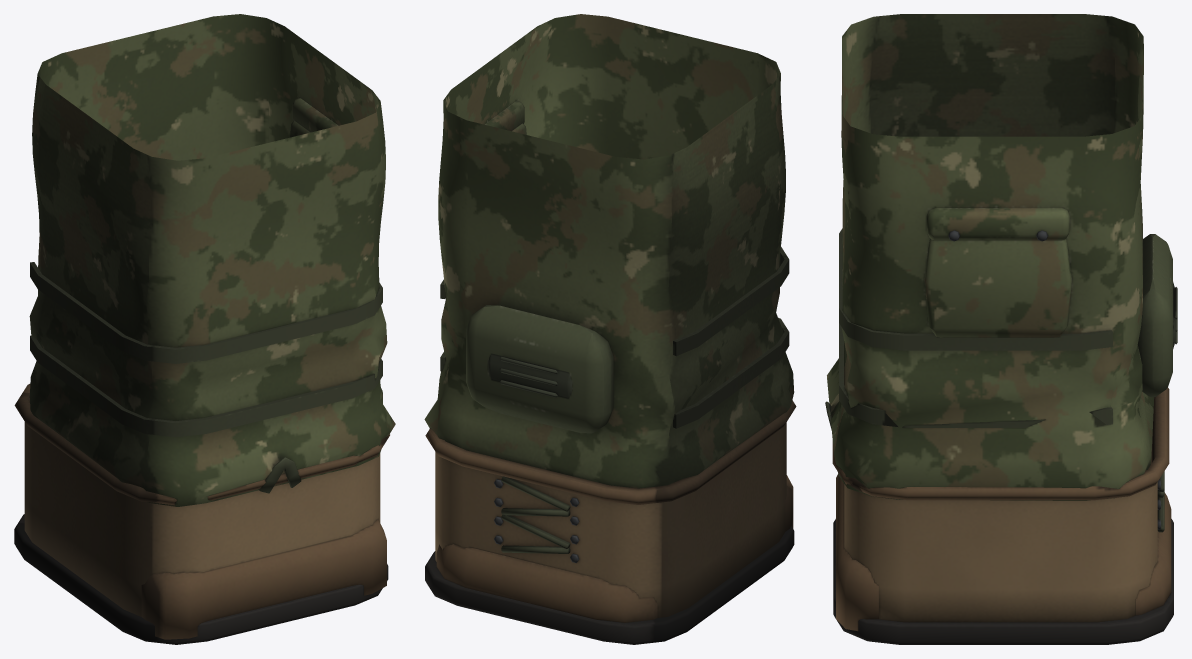
The model's file is Ashford_Leg.fbx.
The picture shows the model from 3 angles, left to right: view 1: azimuth 30°, elevation 25°; view 2: azimuth 150°, elevation 25°; view 3: azimuth 270°, elevation 25°; orthographic projection. The views are drawn at different scales.
Visible parts, largest first — view 1: Ashford_Leg_cloth, Ashford_Leg_boot, Ashford_Leg_strap, Ashford_Leg_sole; view 2: Ashford_Leg_cloth, Ashford_Leg_boot, Ashford_Leg_knee, Ashford_Leg_sole, Ashford_Leg_strap, Ashford_Leg_metal; view 3: Ashford_Leg_cloth, Ashford_Leg_boot, Ashford_Leg_sole, Ashford_Leg_strap, Ashford_Leg_knee.
Boxes of the visible parts, x1,y1,x2,y2 form: Ashford_Leg_cloth: (29,14,395,506); Ashford_Leg_boot: (14,384,389,639); Ashford_Leg_strap: (30,262,382,493); Ashford_Leg_sole: (14,514,388,644); Ashford_Leg_cloth: (424,14,794,488); Ashford_Leg_boot: (425,400,796,622); Ashford_Leg_knee: (466,305,613,433); Ashford_Leg_sole: (425,526,794,644); Ashford_Leg_strap: (440,247,789,553); Ashford_Leg_metal: (494,479,579,562); Ashford_Leg_cloth: (827,14,1154,500); Ashford_Leg_boot: (832,387,1171,631); Ashford_Leg_sole: (833,519,1173,644); Ashford_Leg_strap: (825,228,1164,532); Ashford_Leg_knee: (1138,234,1177,396).
Bounding box in the file's own units: 120 × 204 × 128.
Materials: 1 (1 with a texture image).
